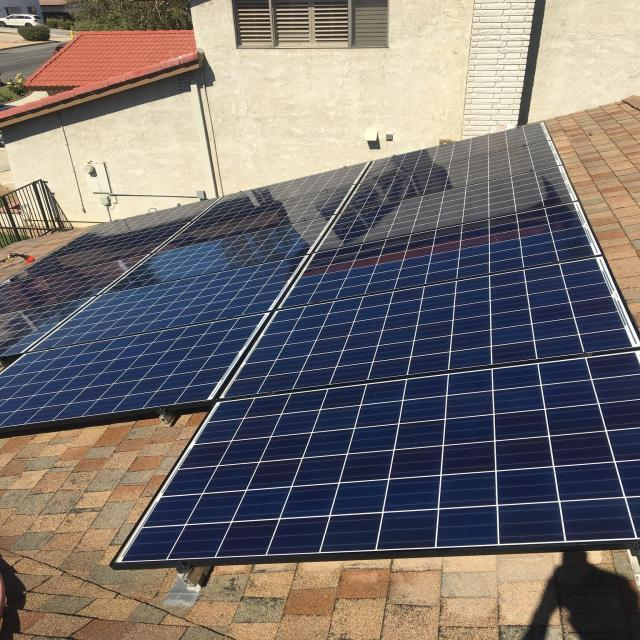clean-solar-panel: (2, 124, 638, 569)
